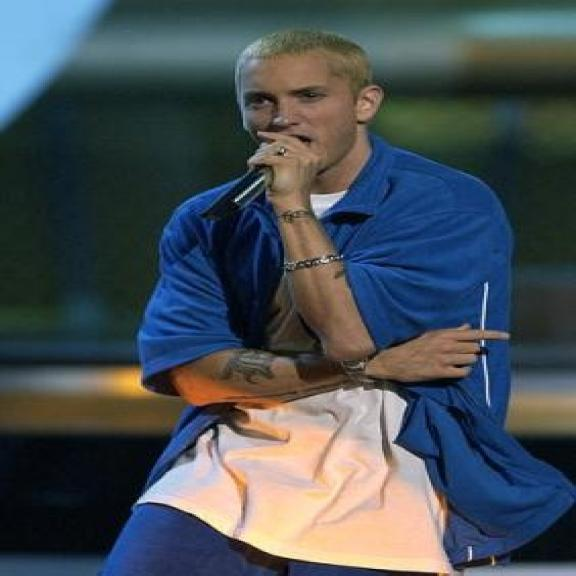face: (227, 46, 385, 179)
